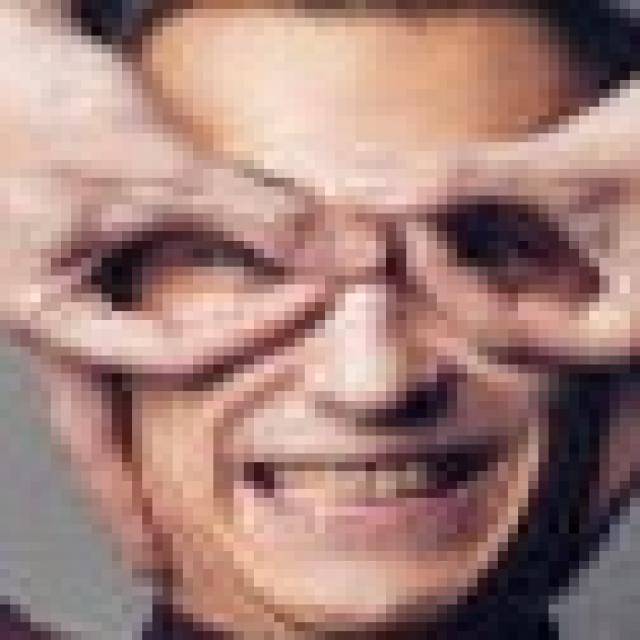Anxiety: (105, 10, 626, 631)
